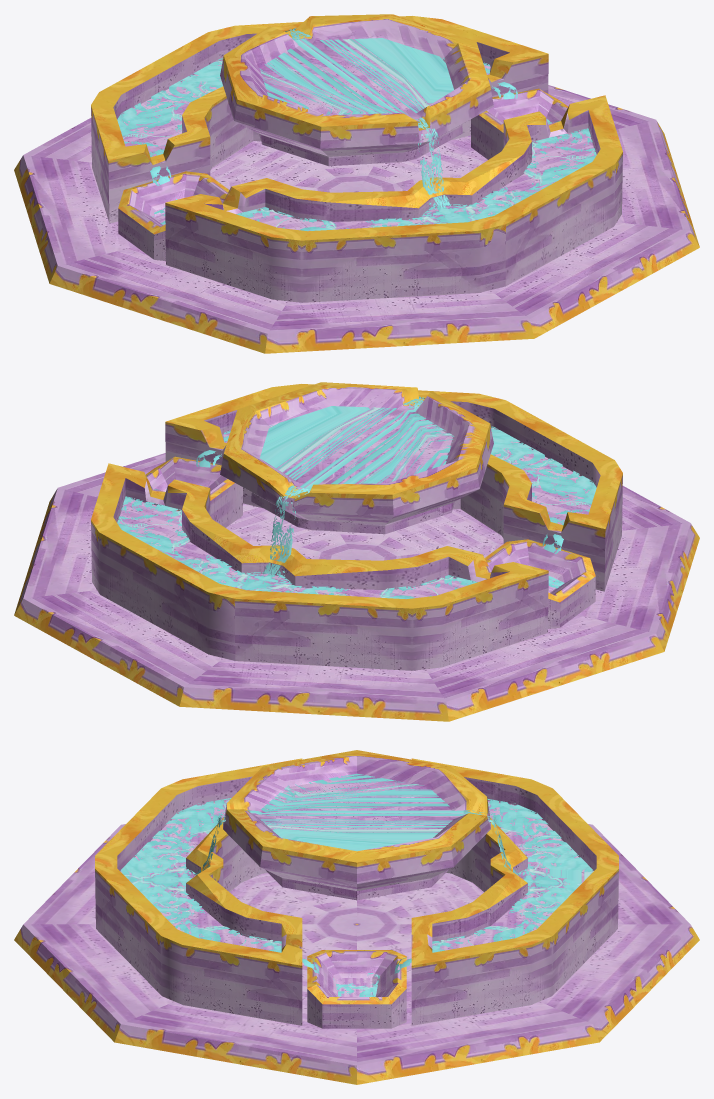
File: pm-str-fountain-01.glb
The picture shows the model from 3 angles, top to bottom: view 1: azimuth 30°, elevation 25°; view 2: azimuth 150°, elevation 25°; view 3: azimuth 270°, elevation 25°; orthographic projection. The views are drawn at different scales.
Parts seen in each view (by area): view 1: Str_Fountain_01_Art; view 2: Str_Fountain_01_Art; view 3: Str_Fountain_01_Art.
Part boxes in pixels (x1,y1,x2,y2): Str_Fountain_01_Art: [14, 14, 699, 353]; Str_Fountain_01_Art: [14, 382, 699, 721]; Str_Fountain_01_Art: [14, 750, 699, 1084].
Size of what is drawn, in the model's own units: 6.73 by 1.48 by 6.73.
Materials: 2 (2 with a texture image).
